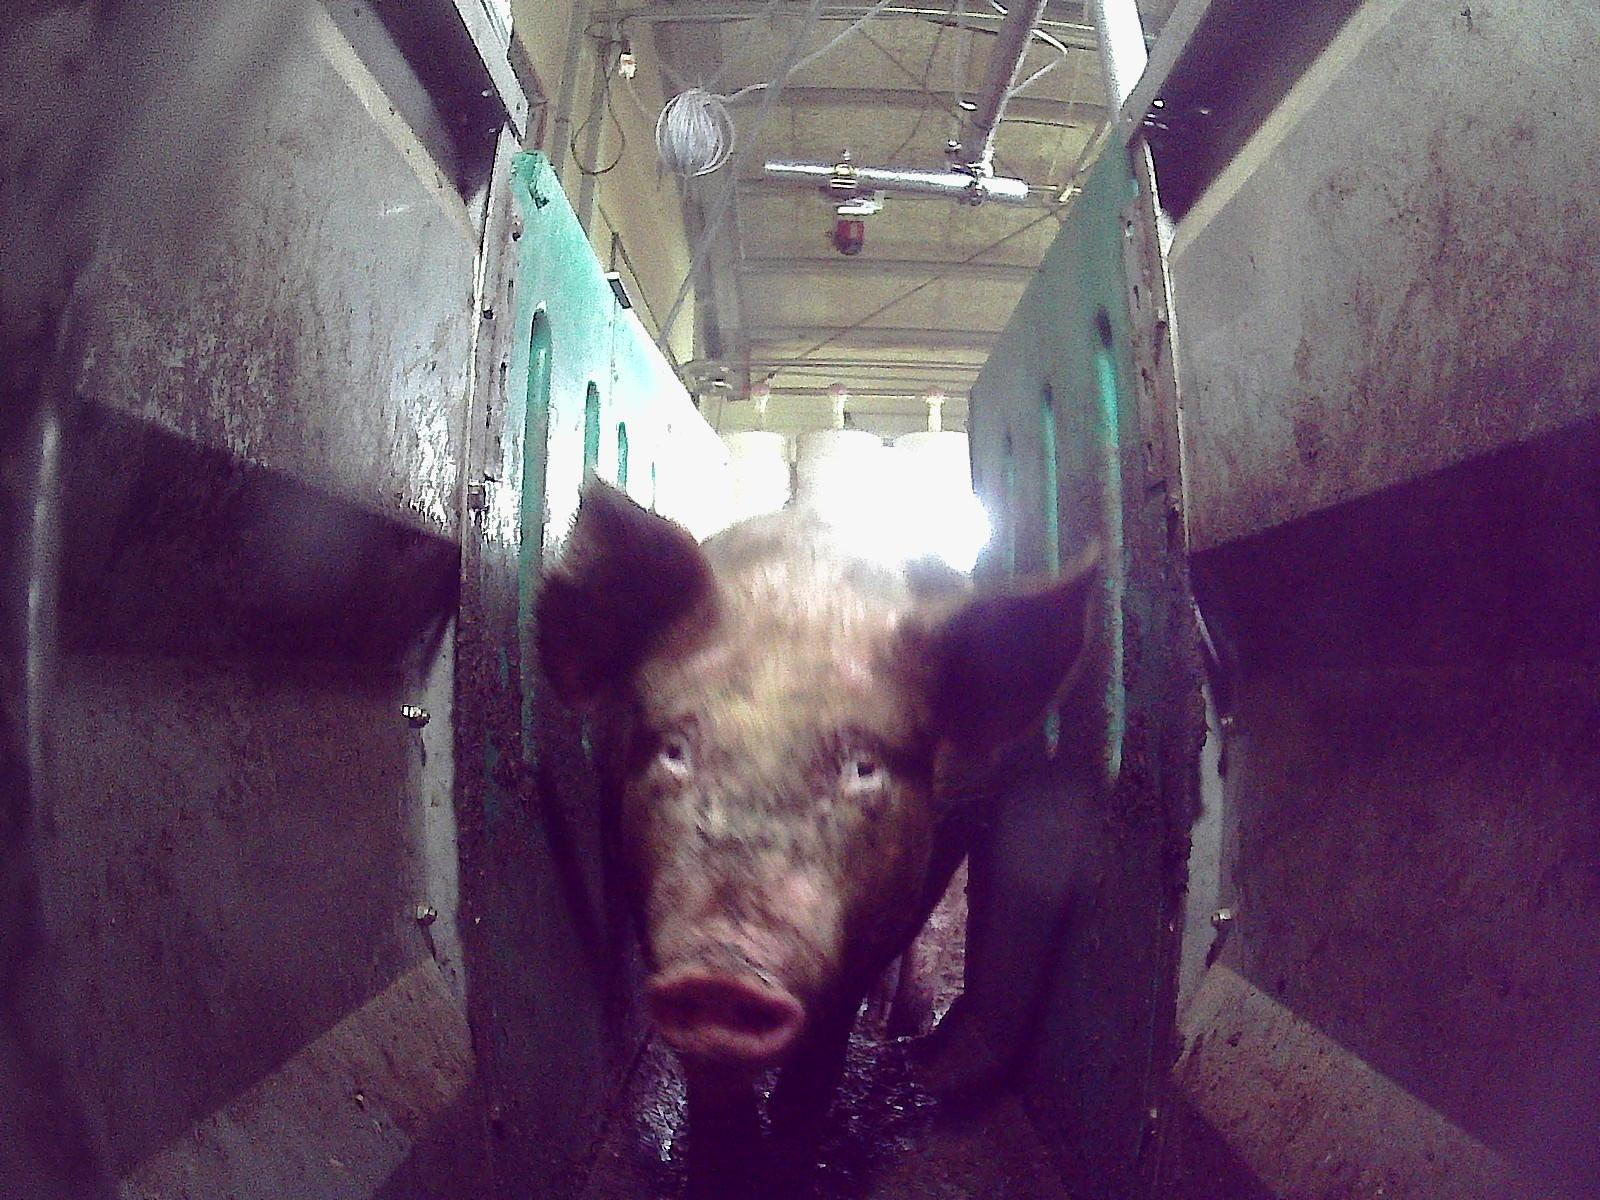Face: (625, 577, 946, 1062)
